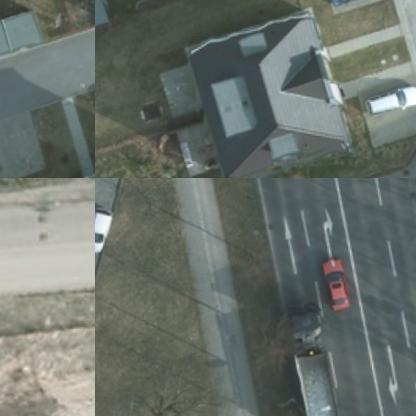car: (367, 76, 415, 111), (326, 255, 358, 307), (95, 199, 116, 250)
